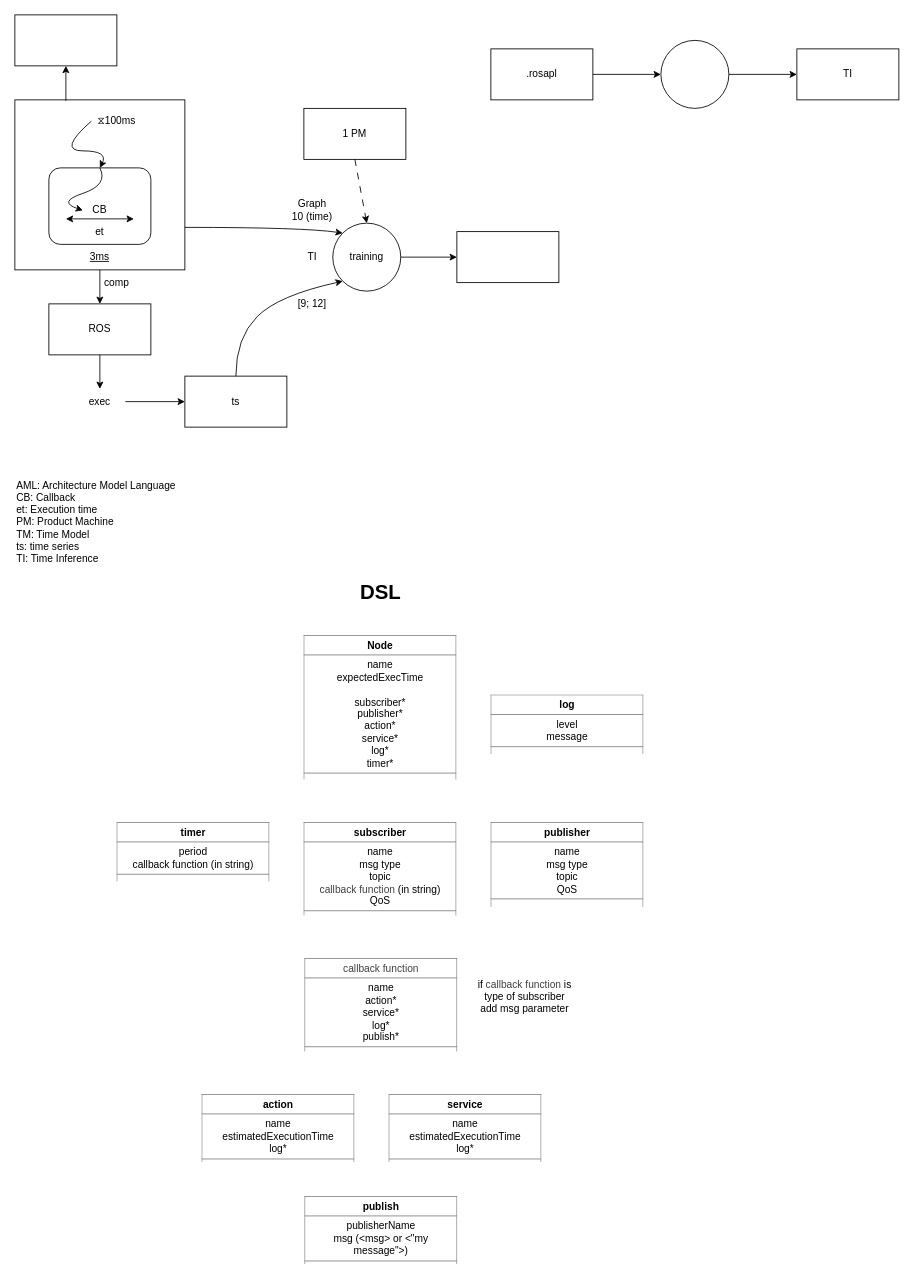
Image size: 914x1279. Some labels were removed from this diagram. The shapes that lost their labels are listed below. From the top down, each one's centre as x and y in pixels, then its label:
At (x=65, y=40): "ROS AML".
At (x=694, y=74): "inference".
At (x=507, y=257): "TM".
